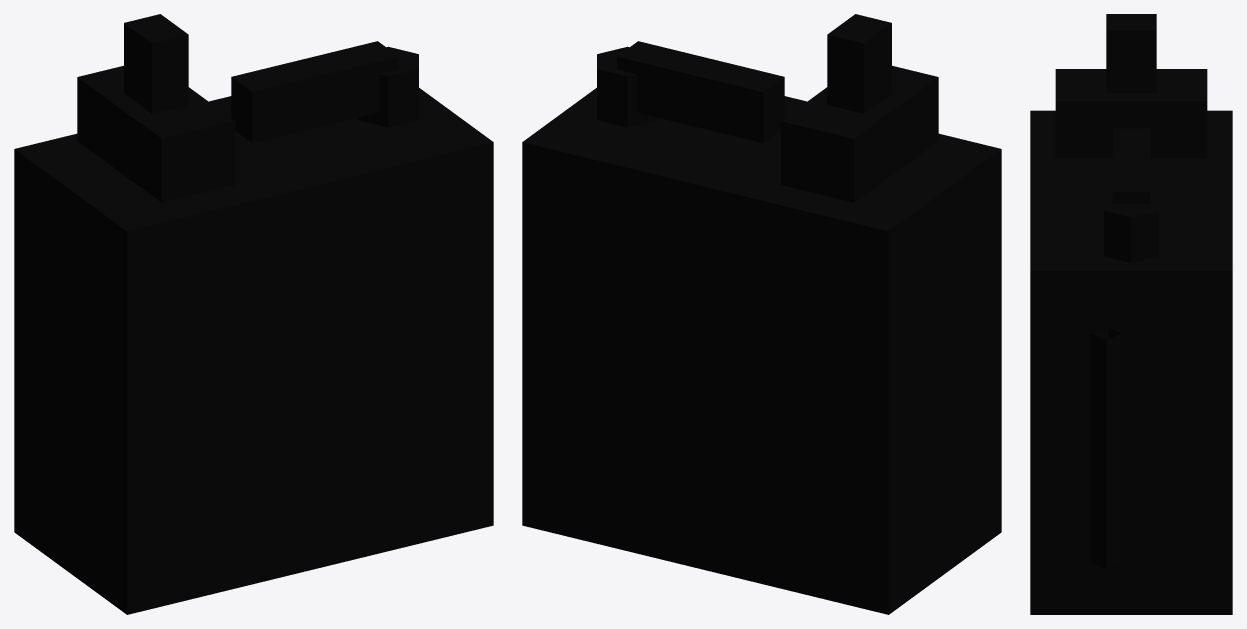
File: SM_fuel_can.fbx
3 views of the same model, side by side, from view 1: azimuth 30°, elevation 25°; view 2: azimuth 150°, elevation 25°; view 3: azimuth 270°, elevation 25° (orthographic). The views are drawn at different scales.
Visible parts, largest first — view 1: fuel_can; view 2: fuel_can; view 3: fuel_can.
Part boxes in pixels (left/top/right/bottom): fuel_can: left=14, top=14, right=493, bottom=614; fuel_can: left=522, top=14, right=1001, bottom=614; fuel_can: left=1030, top=14, right=1232, bottom=614.
Size of the model in its own units: 0.322 by 0.41 by 0.16.
